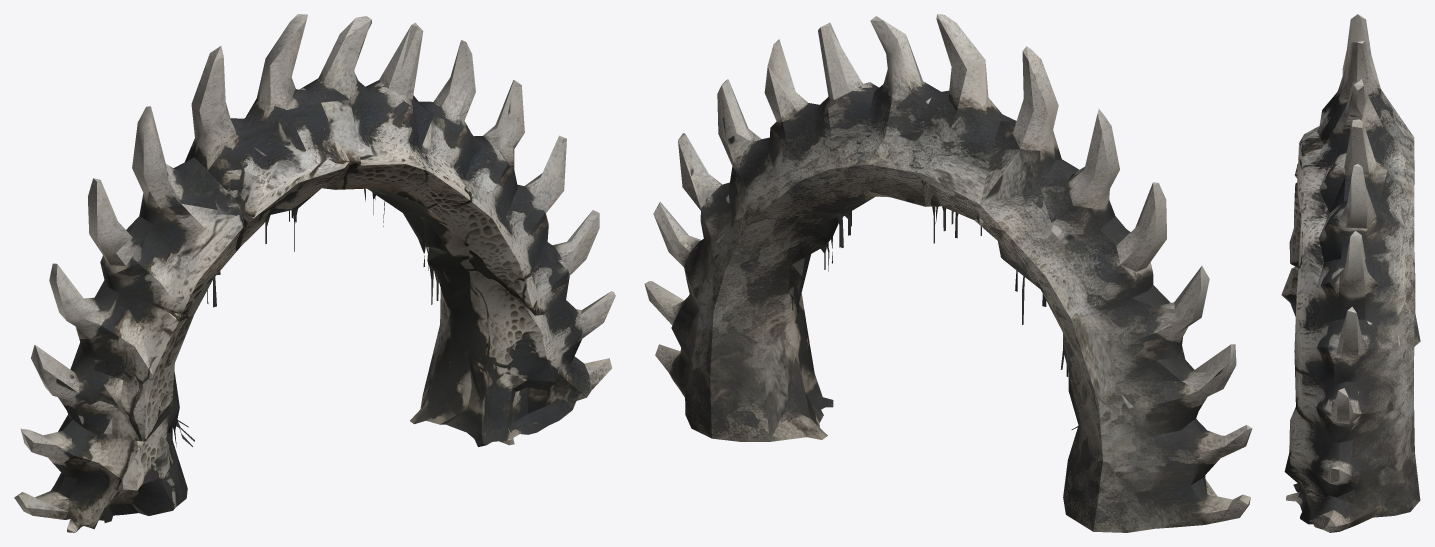
Rendered from kaburga_LOD1.fbx.
3 renders of one model, left to right at view 1: azimuth 30°, elevation 25°; view 2: azimuth 150°, elevation 25°; view 3: azimuth 270°, elevation 25°, orthographic. The views are drawn at different scales.
Visible parts, largest first — view 1: kaburga_LOD1; view 2: kaburga_LOD1; view 3: kaburga_LOD1.
Boxes of the visible parts, left/top/right/bottom form: kaburga_LOD1: left=14, top=14, right=615, bottom=532; kaburga_LOD1: left=644, top=14, right=1252, bottom=532; kaburga_LOD1: left=1281, top=14, right=1420, bottom=532.
Bounding box in the file's own units: 1723 × 399 × 1231.
Materials: 1 (1 with a texture image).
